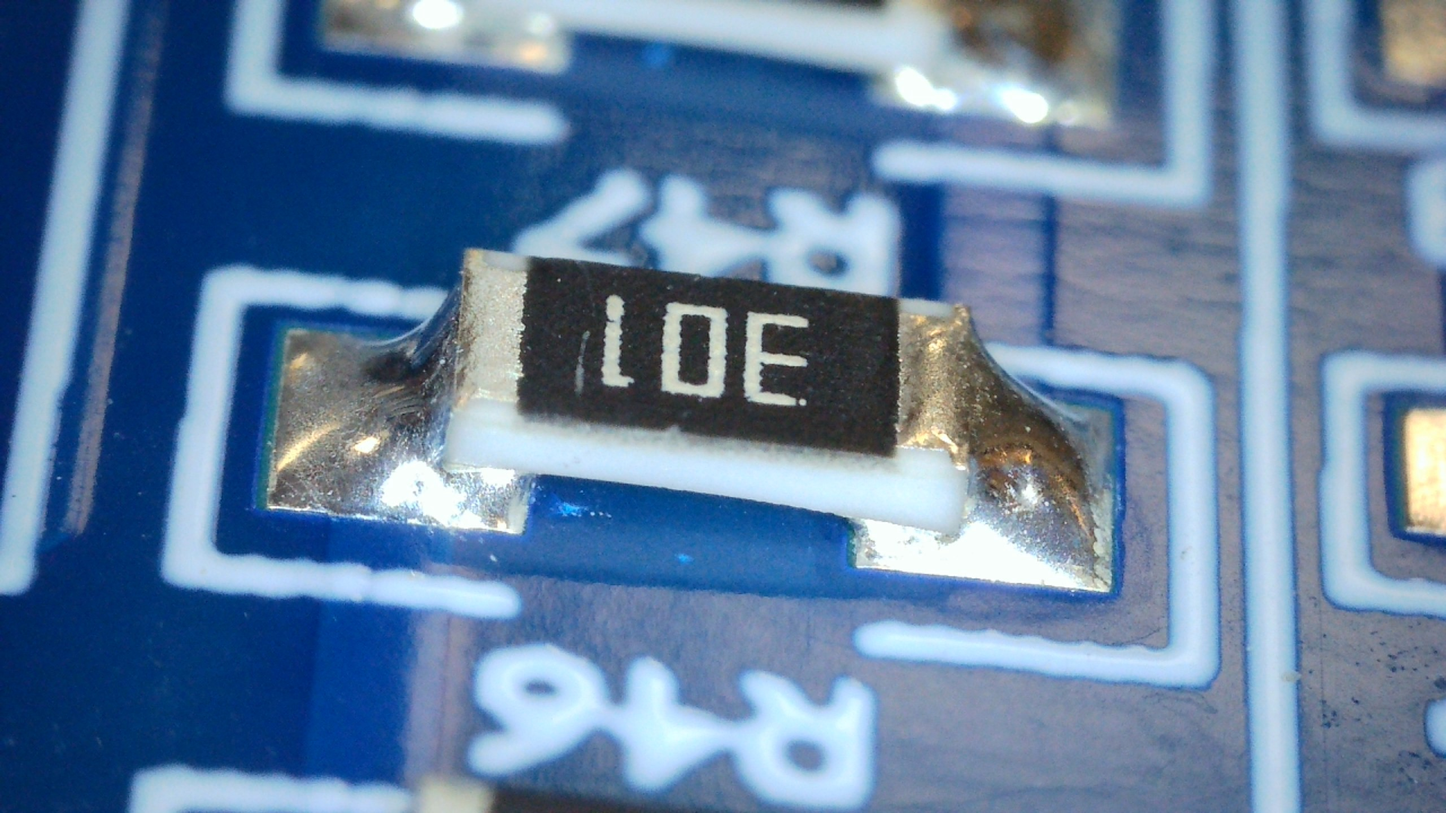NG: (283, 250, 528, 515)
OK: (894, 300, 1106, 588)
